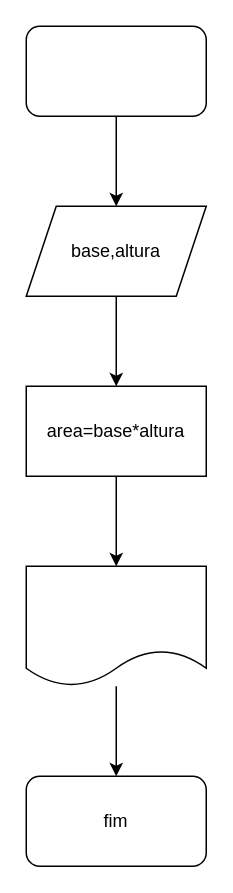
The diagram is 233 pixels wide and 893 high, and some of its shapes have lost their labels. Here are the shapes that lost their labels. From the top down, the centre of each, then its label:
pixel 115 70: inicio
pixel 115 625: area,perimetro
